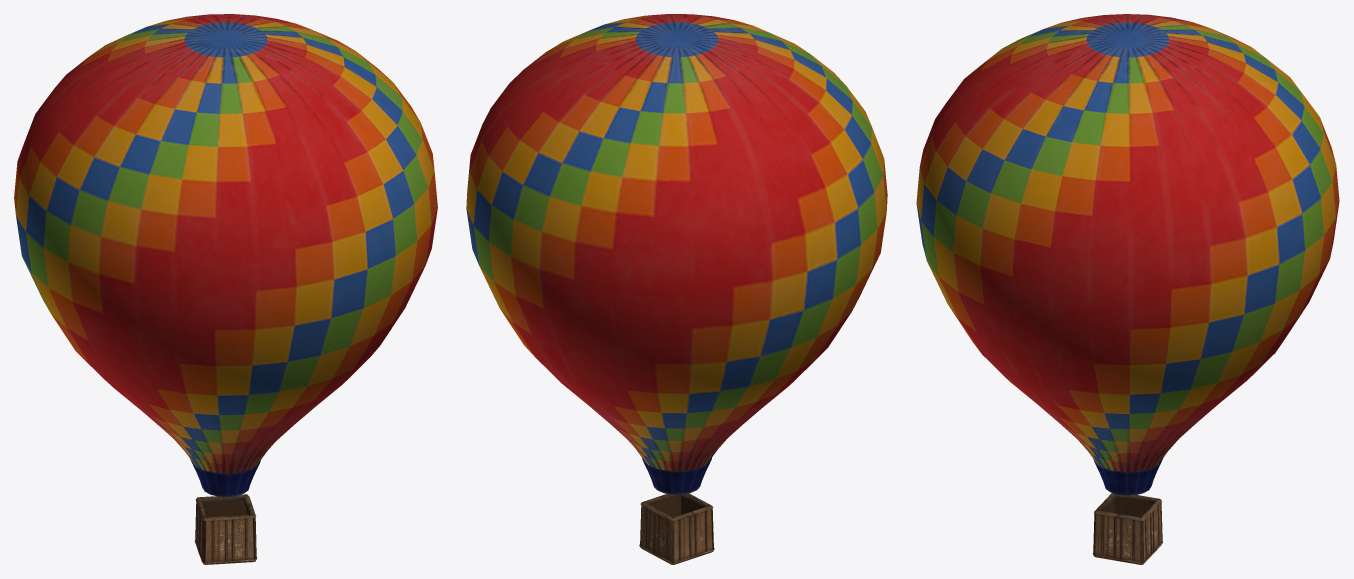
File: Balloon_1.fbx
The picture shows the model from 3 angles, left to right: view 1: azimuth 30°, elevation 25°; view 2: azimuth 150°, elevation 25°; view 3: azimuth 270°, elevation 25°; orthographic projection.
Parts seen in each view (by area): view 1: BA_1, Crate_1; view 2: BA_1, Crate_1; view 3: BA_1, Crate_1.
Part boxes in pixels (box(x1,y1,x2,y2)): BA_1: box(14, 14, 437, 497); Crate_1: box(195, 494, 256, 564); BA_1: box(466, 14, 887, 494); Crate_1: box(639, 493, 714, 564); BA_1: box(916, 14, 1339, 495); Crate_1: box(1093, 493, 1162, 564).
Bounding box in the file's own units: 2265 × 3032 × 2265.
2 materials, 2 textured.
